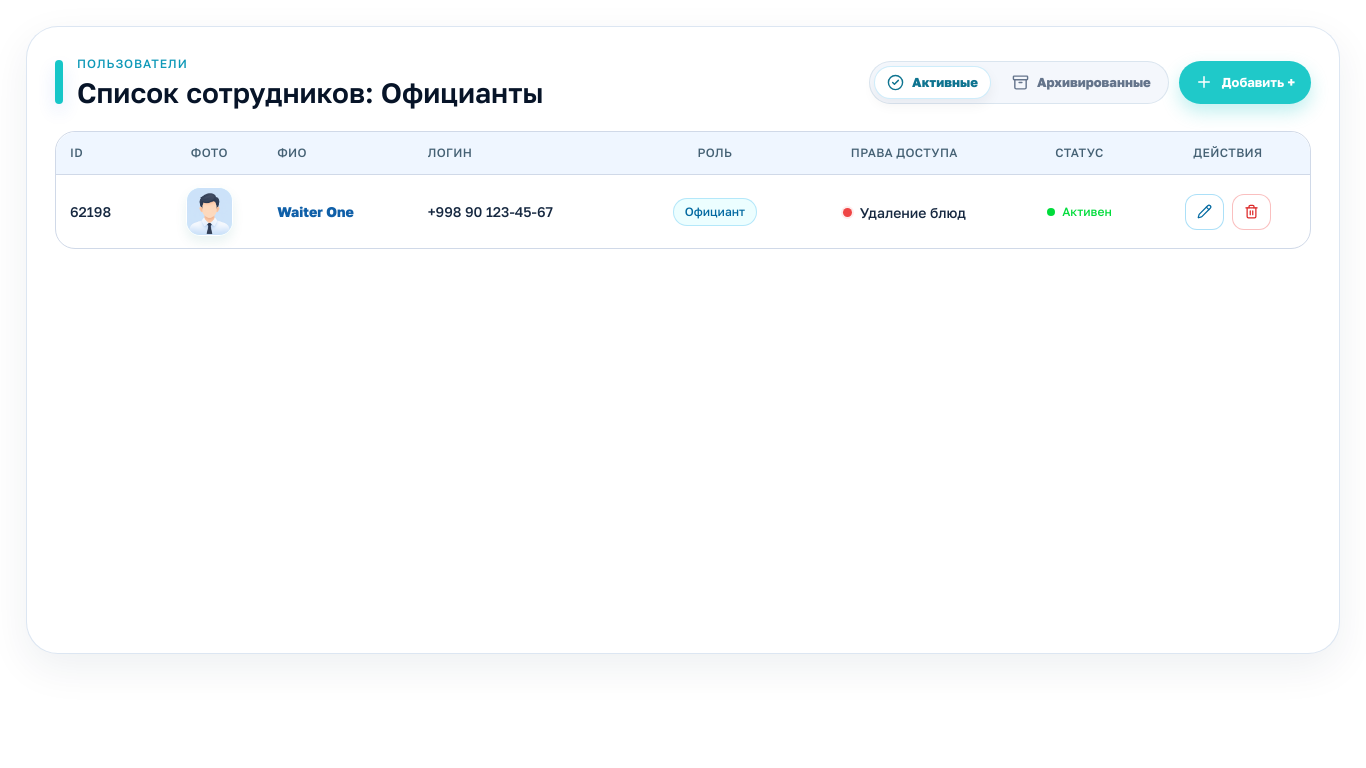
Scenario: waiter page visual contract (/users/waiter) — WAITER-01 › keeps phone prefix stable and formats (XX) XXX-XX-XX
This screenshot has width=1366, height=768.
Expected: the text "Waiter One" is shown, [263,174,414,248]
Click the button "Добавить +".
click(1245, 82)  # box [1179,61,1311,104]
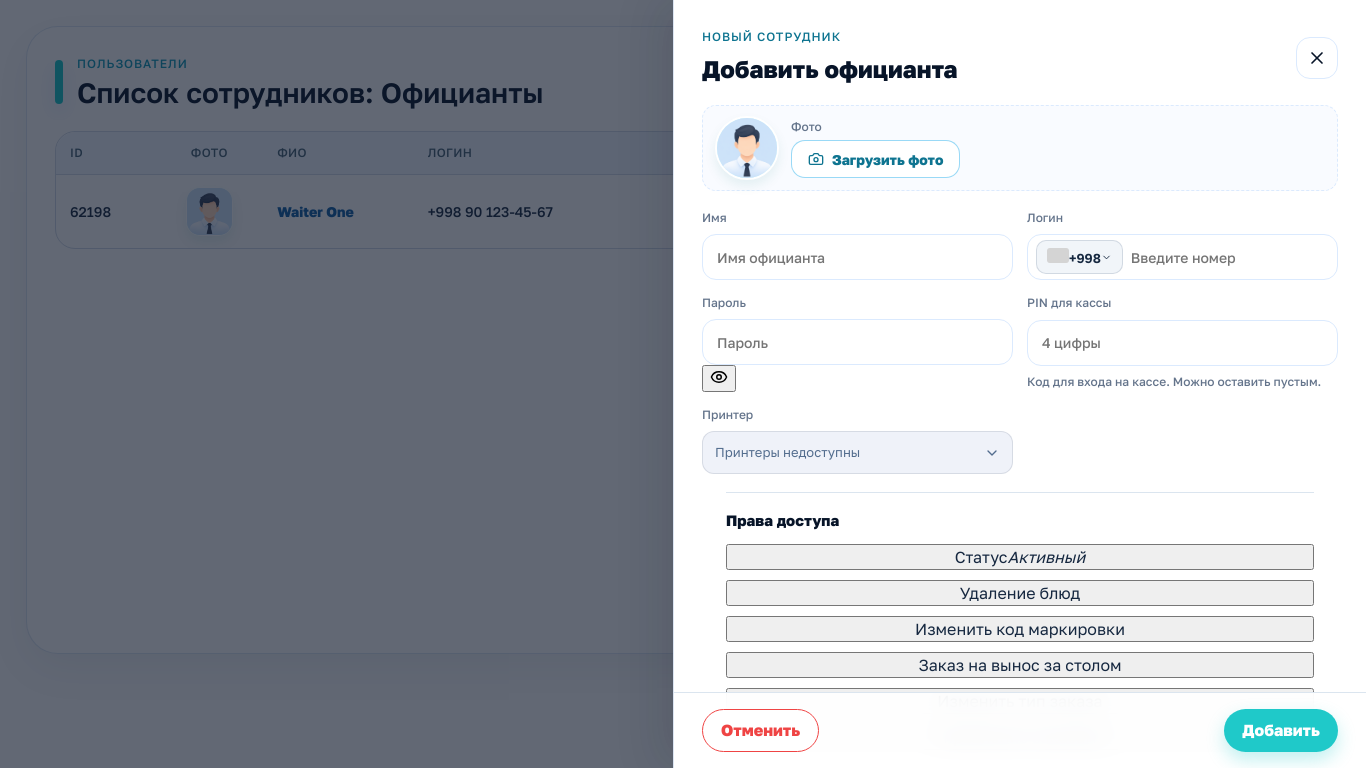
Expected: the button with class "staff-phone-country--pill" reads "+998", [1036,240,1123,274]
Type "90123" into the field with placeholder "Введите номер".
click(1227, 257); type("90123")  # box [1131,235,1323,279]
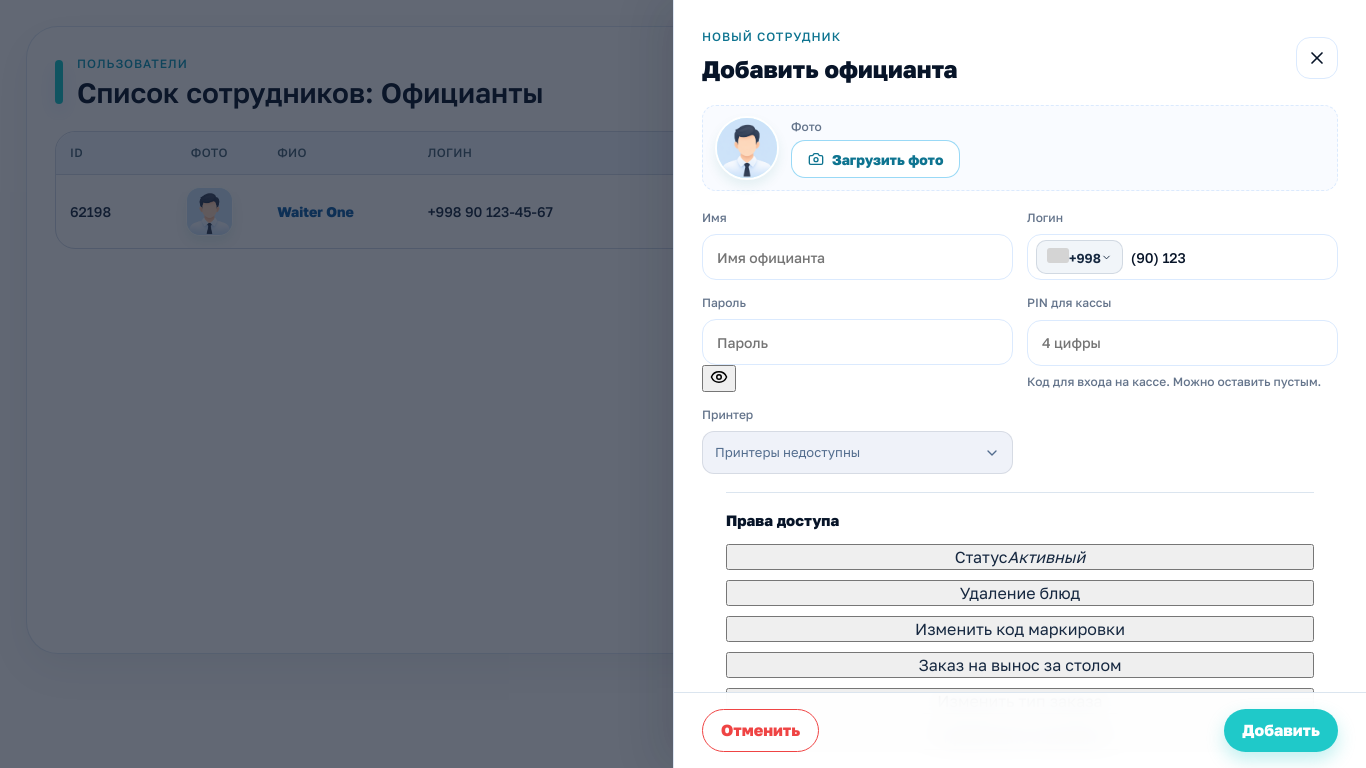
Expected: the field named "Номер телефона без кода страны" holds "(90) 123"
Replace the text in the field named "Номер телефона без кода страны" with "+998901234567" at (1227, 257), box [1131,235,1323,279]
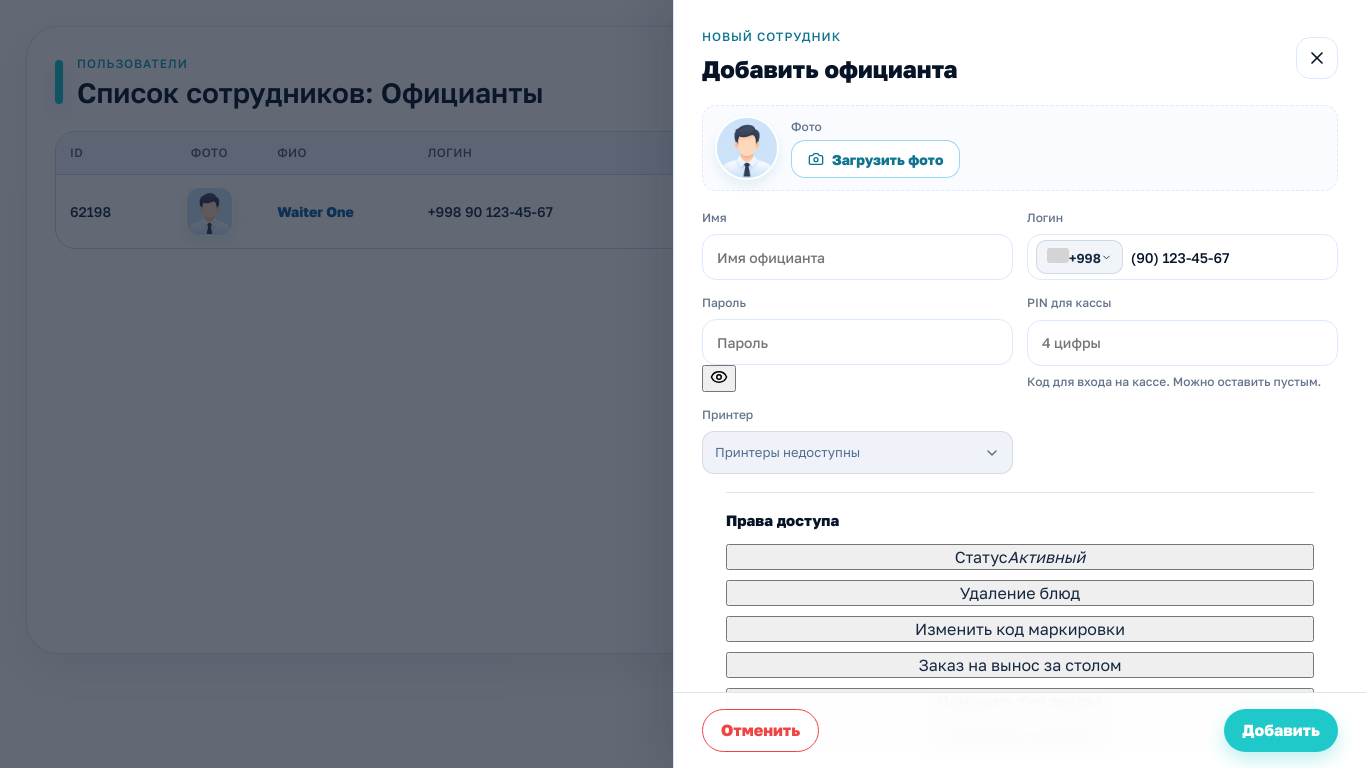
Expected: the field named "Номер телефона без кода страны" holds "(90) 123-45-67", [1131,235,1323,279]
